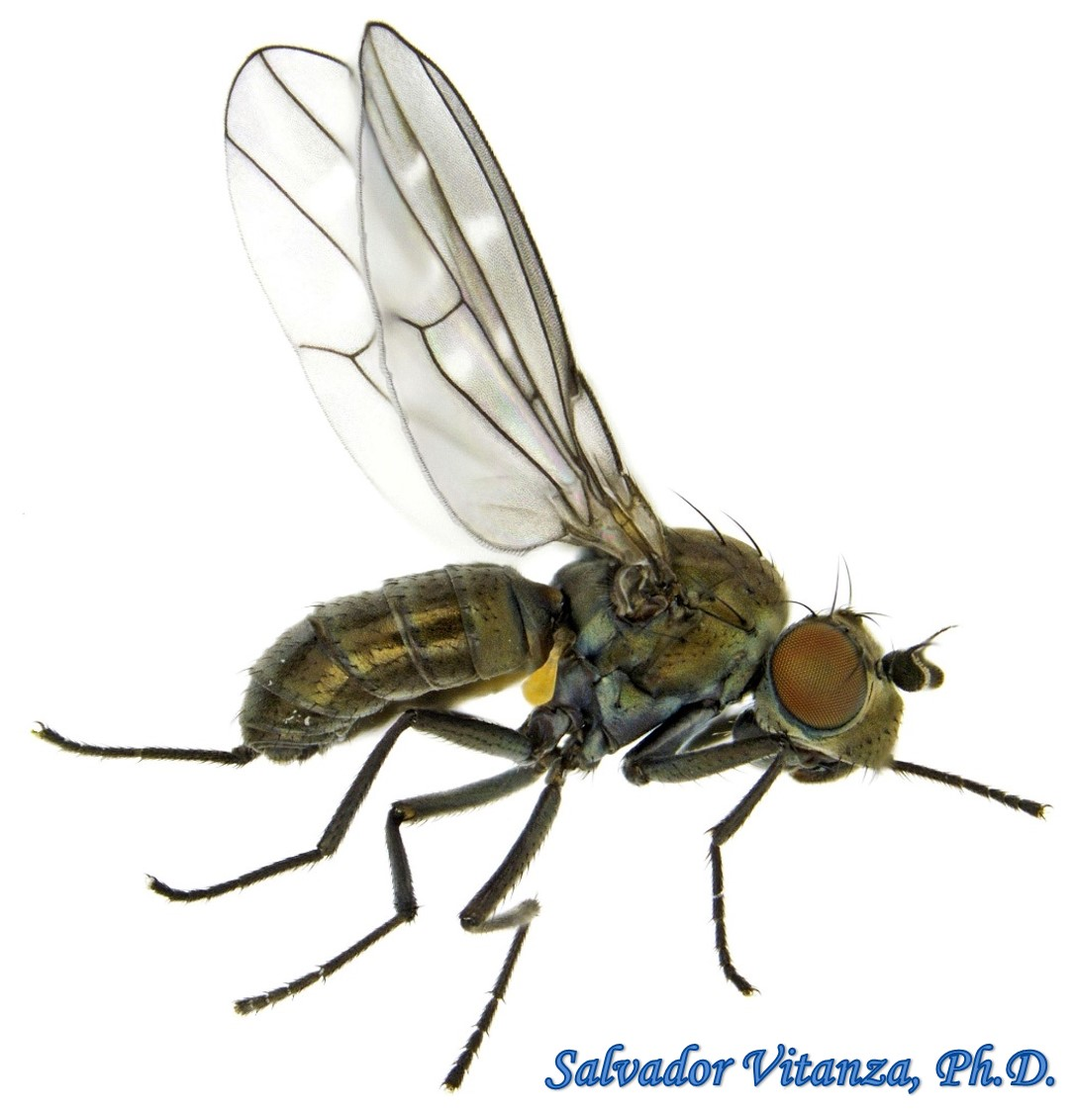Ephydridae: (31, 22, 1062, 1092)
